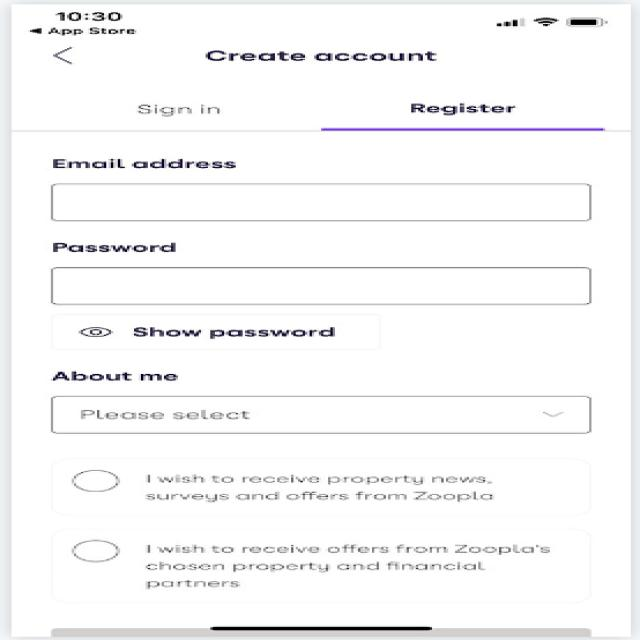icon button: (27, 33, 107, 73)
input: (15, 229, 625, 316), (18, 360, 611, 447), (15, 148, 622, 230)
text: (131, 540, 578, 591), (130, 464, 544, 509), (194, 40, 449, 68), (119, 323, 354, 342)
